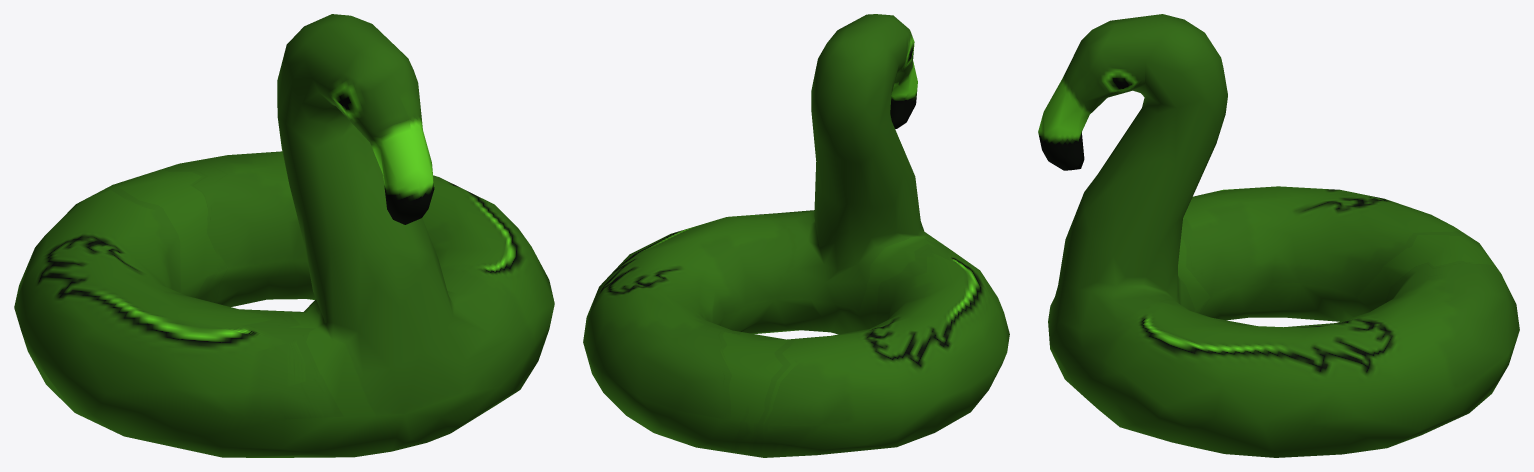
File: flamingo_halloween.gltf
3 renders of one model, left to right at view 1: azimuth 30°, elevation 25°; view 2: azimuth 150°, elevation 25°; view 3: azimuth 270°, elevation 25°, orthographic. The views are drawn at different scales.
Visible parts, largest first — view 1: flamingo_halloween; view 2: flamingo_halloween; view 3: flamingo_halloween.
Boxes of the visible parts, bbox=[...] form: flamingo_halloween: bbox=[14, 14, 554, 457]; flamingo_halloween: bbox=[583, 14, 1009, 457]; flamingo_halloween: bbox=[1038, 14, 1519, 457].
Bounding box in the file's own units: 167 × 135 × 170.
1 material, 1 textured.
